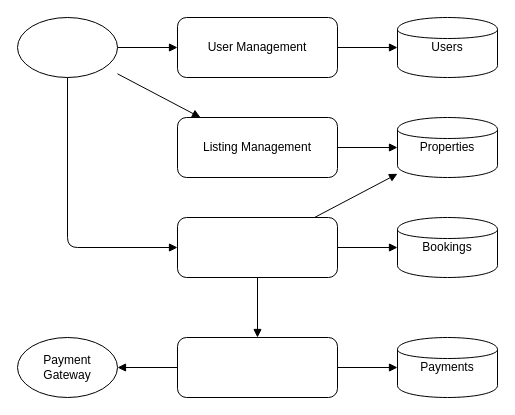
Some shapes in this 515 by 415 pixel diagram are drawn without their labels. The shapes that lost their labels are listed below. From the top down, each one's centre as x and y in pixels, then its label:
At point (67, 47): "User".
At point (257, 247): "Booking System".
At point (257, 367): "Payment Processing".
